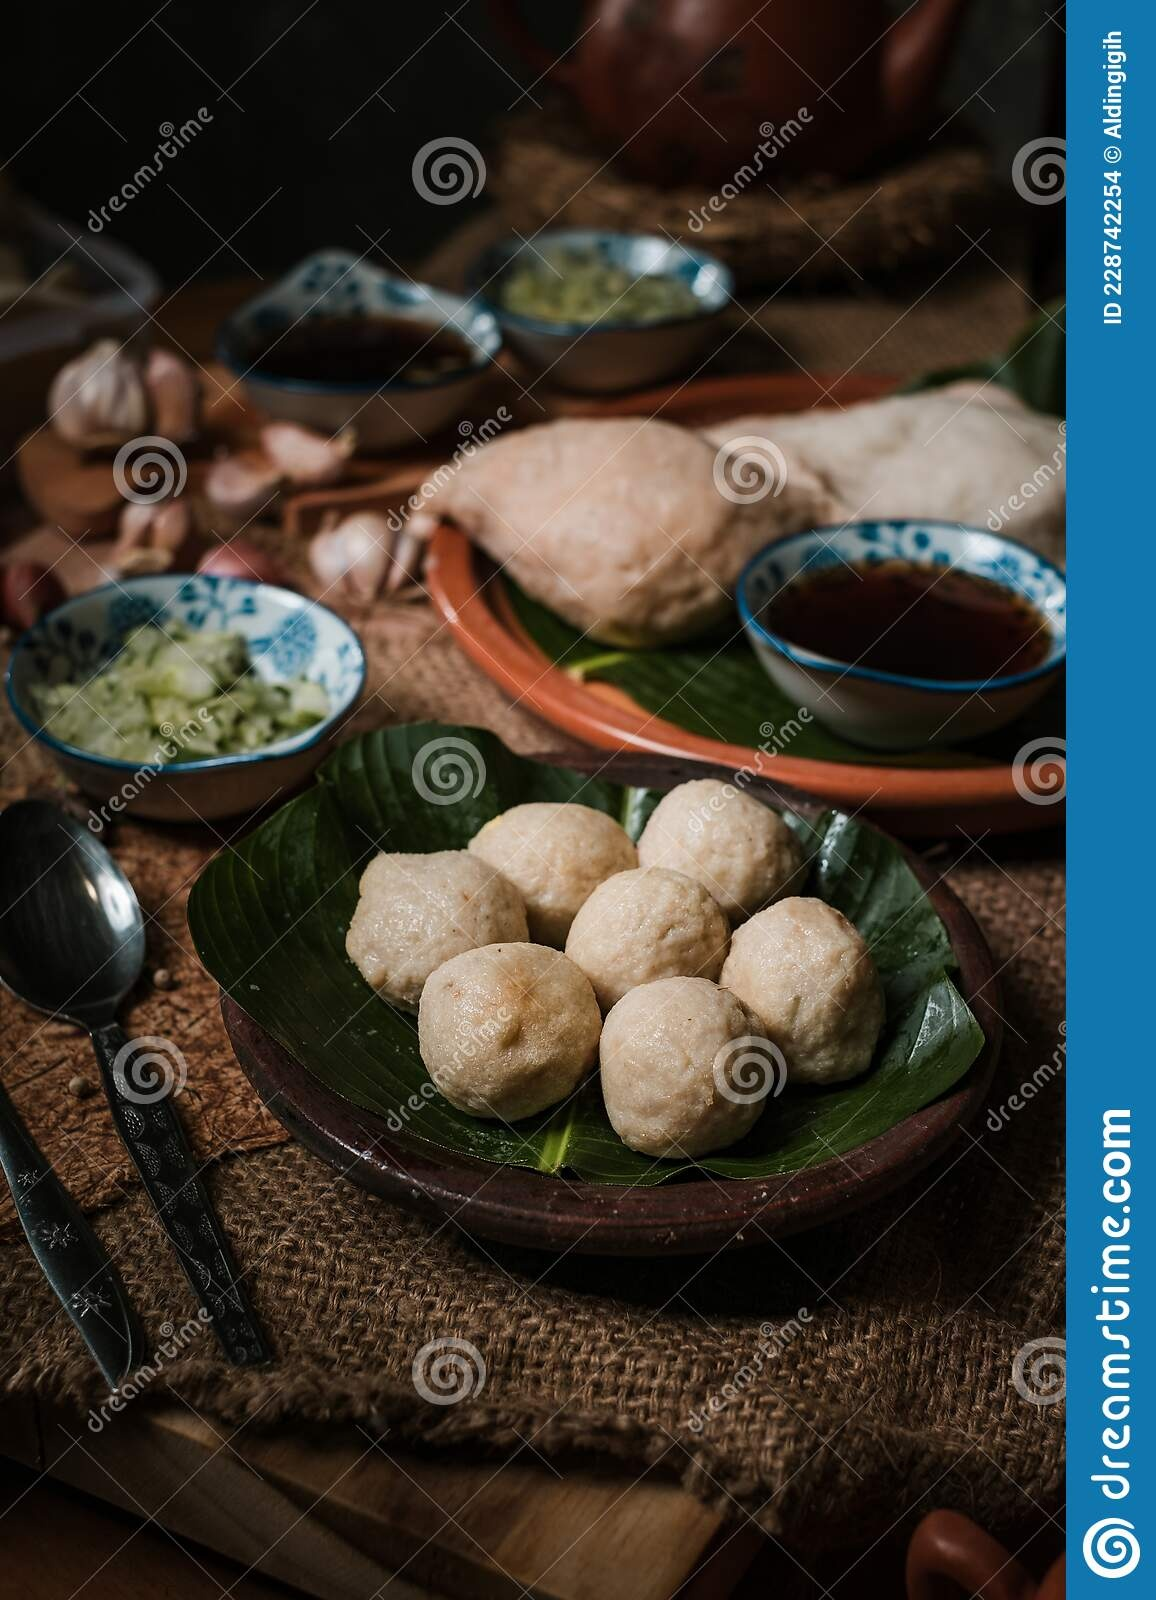pempek: (349, 771, 892, 1157)
